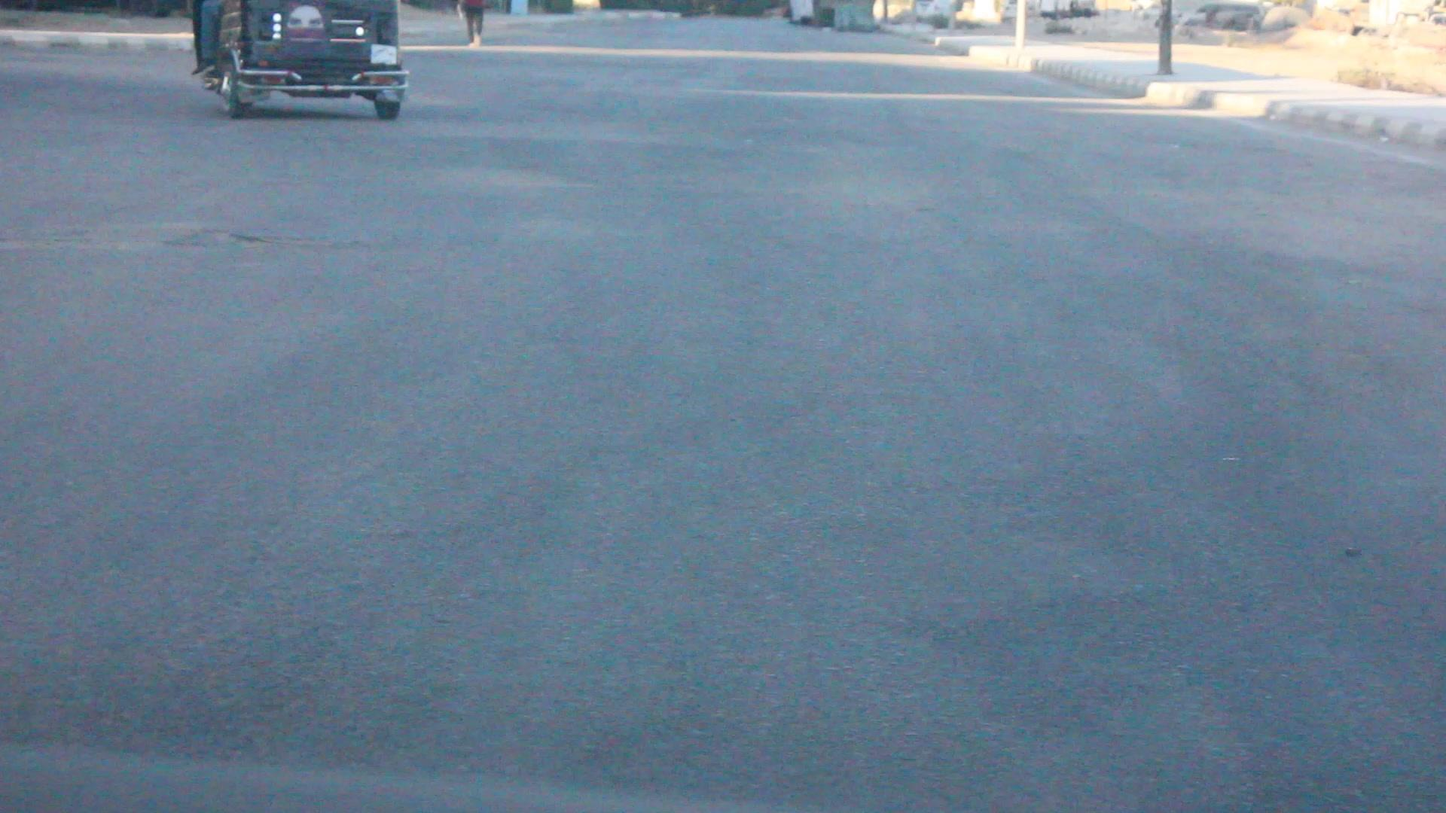Bump: (8, 100, 1446, 203)
Pothole: (128, 220, 303, 275)
